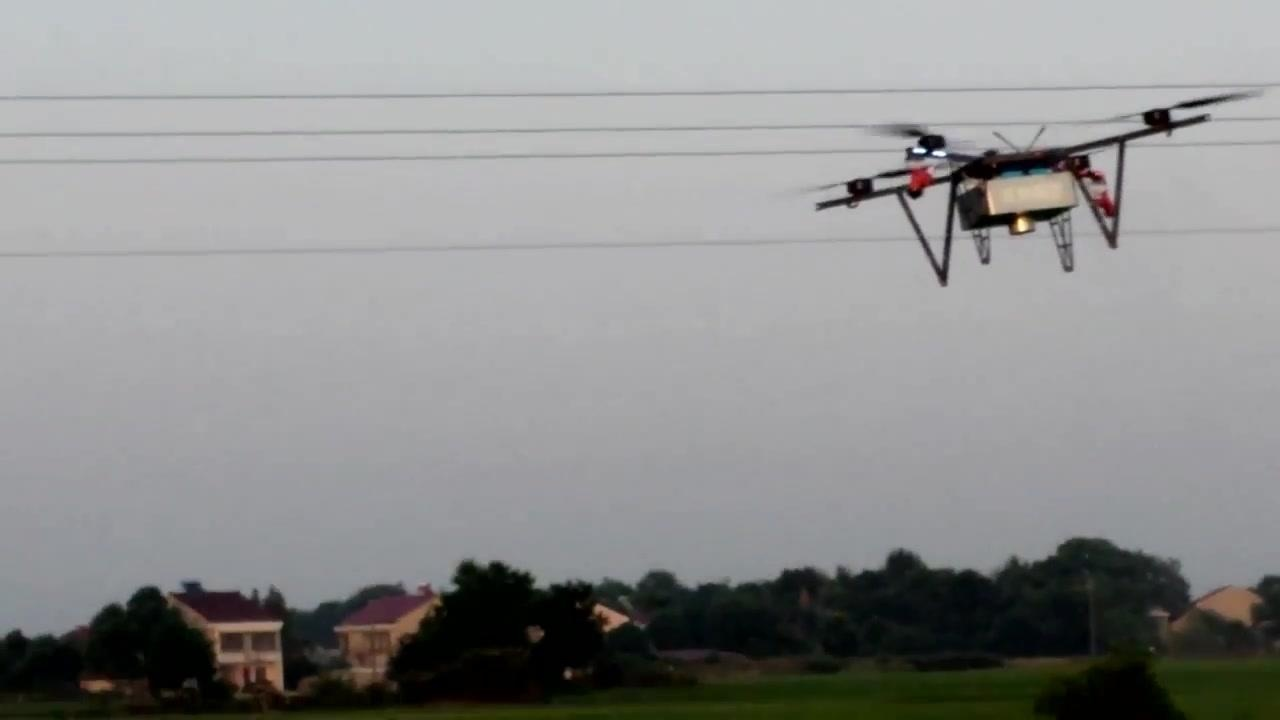UAV: (805, 91, 1266, 288)
